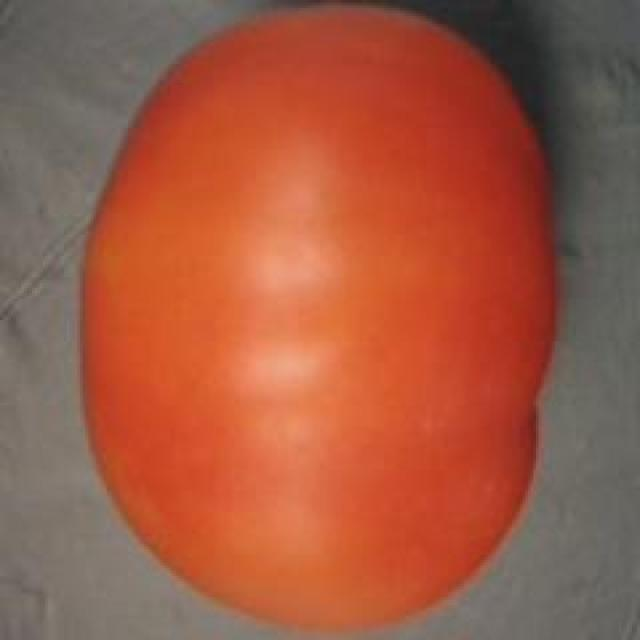ripe tomato: (64, 0, 571, 640)
